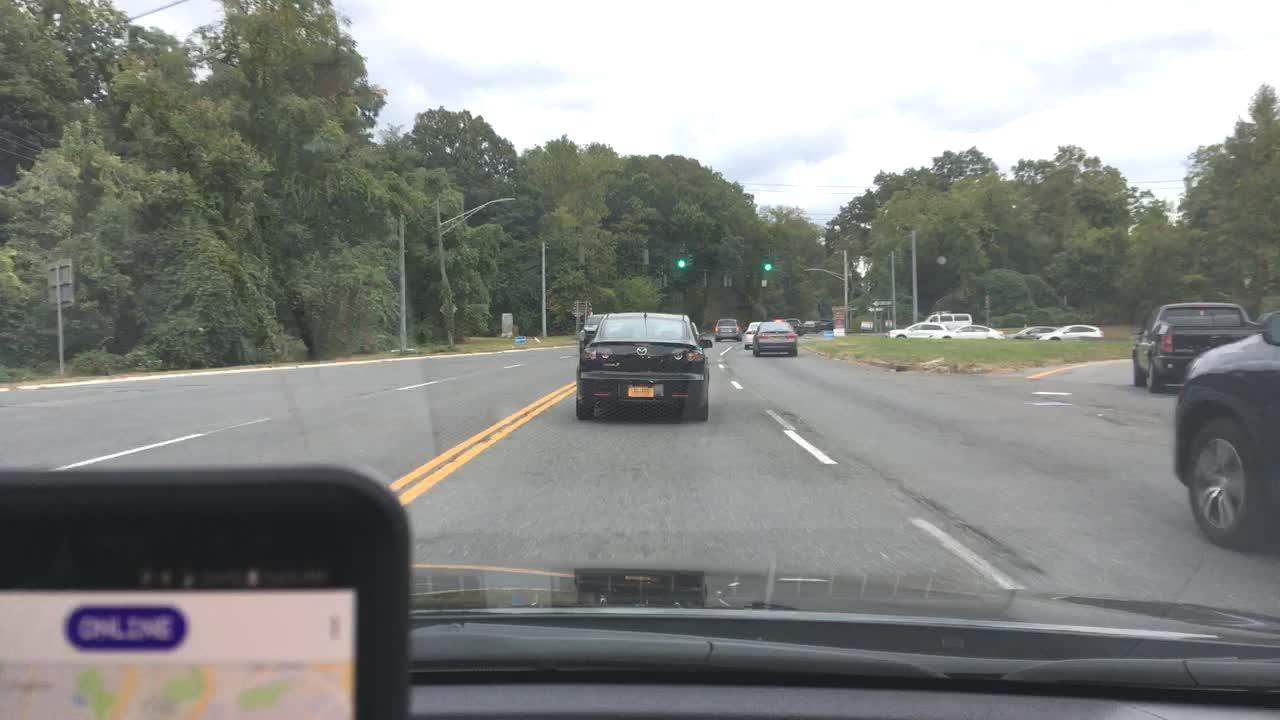Mazda: (630, 339, 656, 361)
